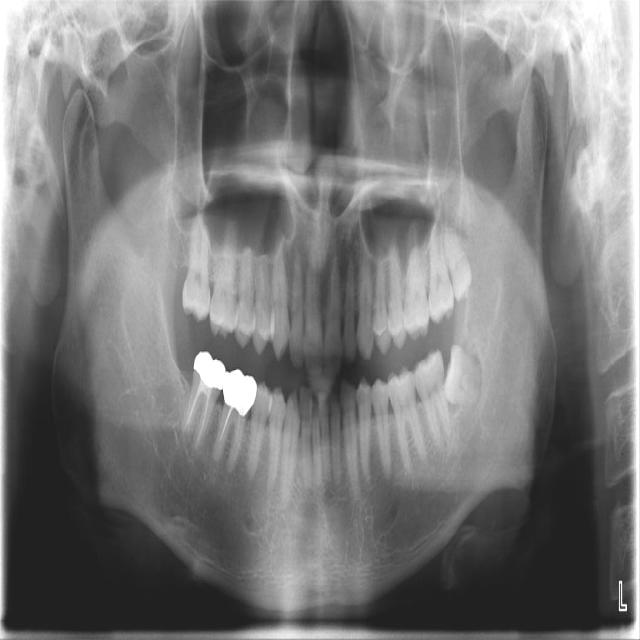Crown: (193, 349, 226, 403), (222, 368, 257, 417)
Root Canal Treatment: (217, 404, 231, 456), (198, 391, 210, 445), (186, 389, 202, 427)
impacted tooth: (444, 343, 484, 408), (444, 221, 471, 299)
